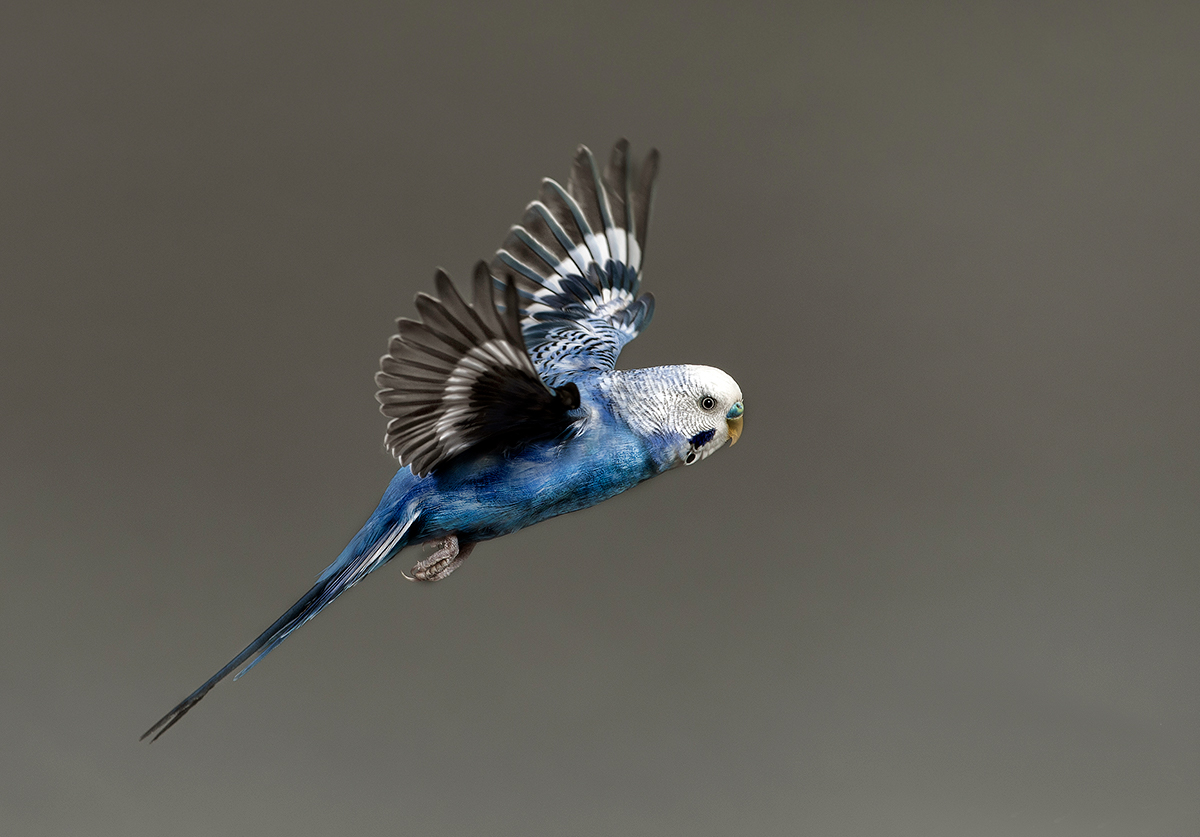budgie: (132, 136, 751, 736)
